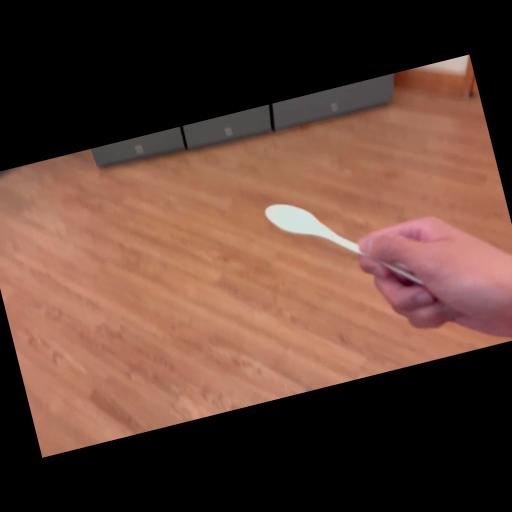utensil: (260, 166, 434, 328)
